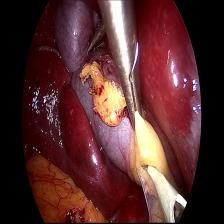Grasper: (106, 19, 148, 131)
Hook: (139, 159, 188, 224)
